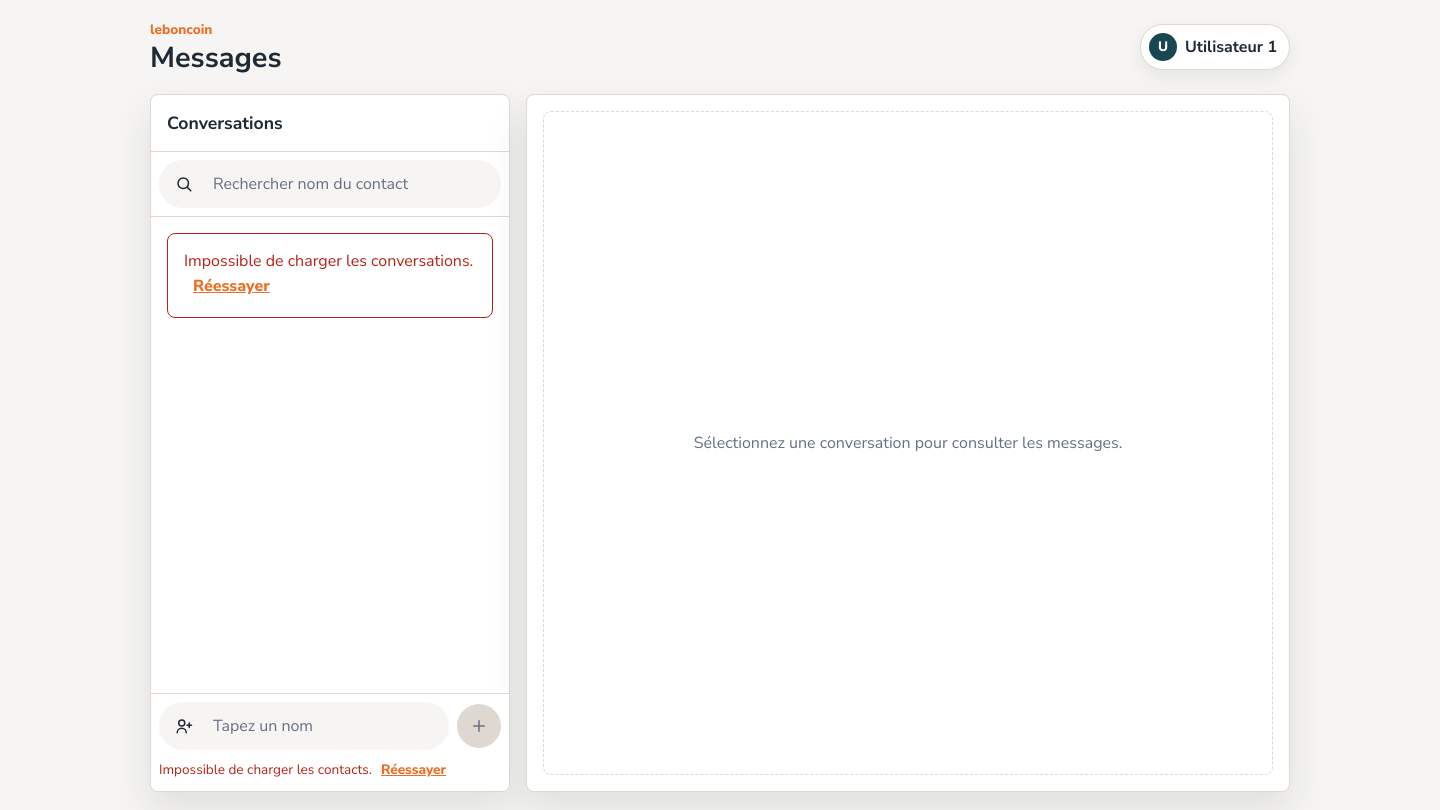
Test: App › reloads contacts when retrying the main conversation error
Expected: the text "Impossible de charger les conversations." is shown, top-left (184, 250), bottom-right (473, 272)
Expected: the text "Impossible de charger les contacts." is shown, top-left (159, 760), bottom-right (372, 779)
Click the button "Réessayer" below "Impossible de charger les conversations." at (231, 286), box top-left (192, 272), bottom-right (271, 301)
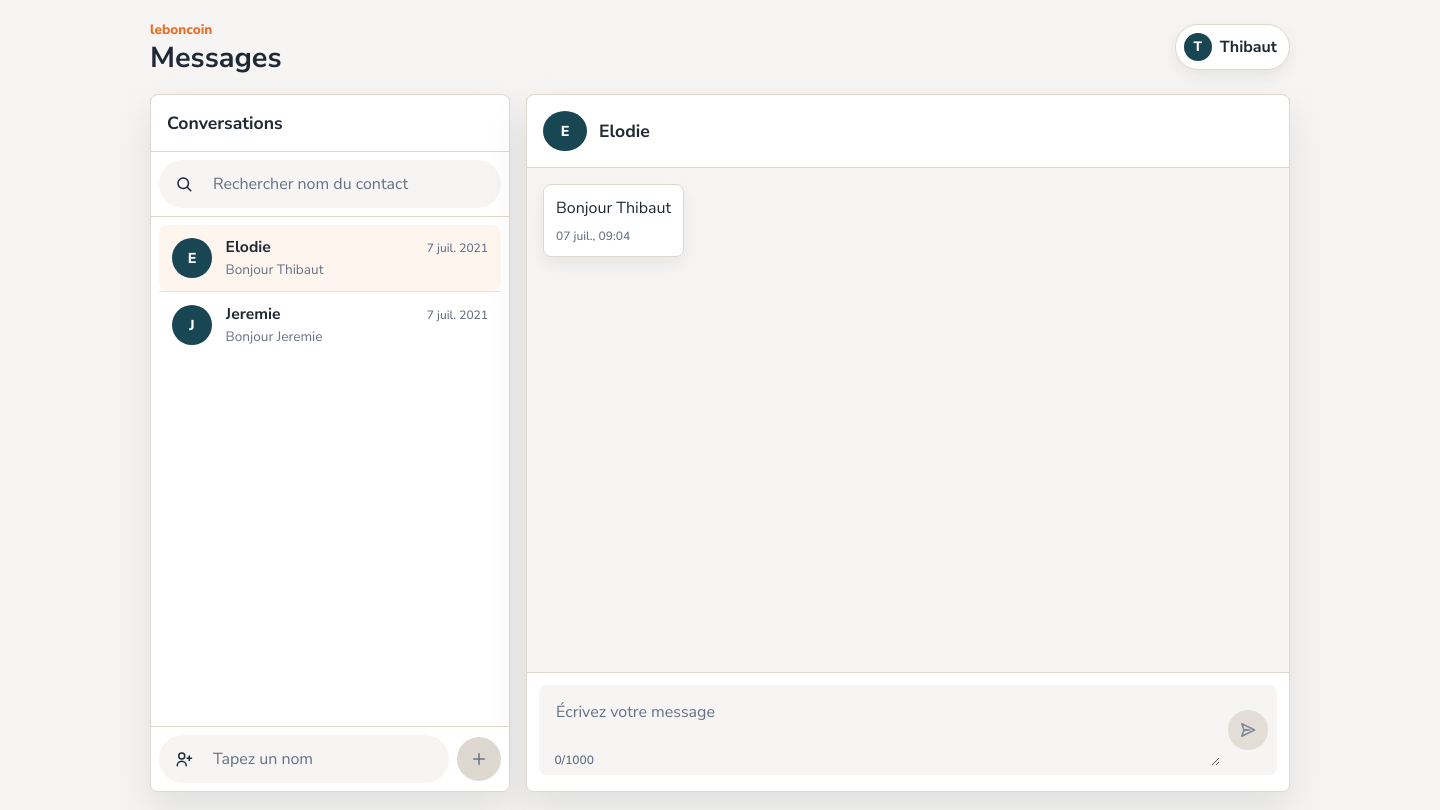
Now the button "Elodie" is shown, box top-left (159, 225), bottom-right (501, 291)
Now the text "Impossible de charger les contacts." is gone
